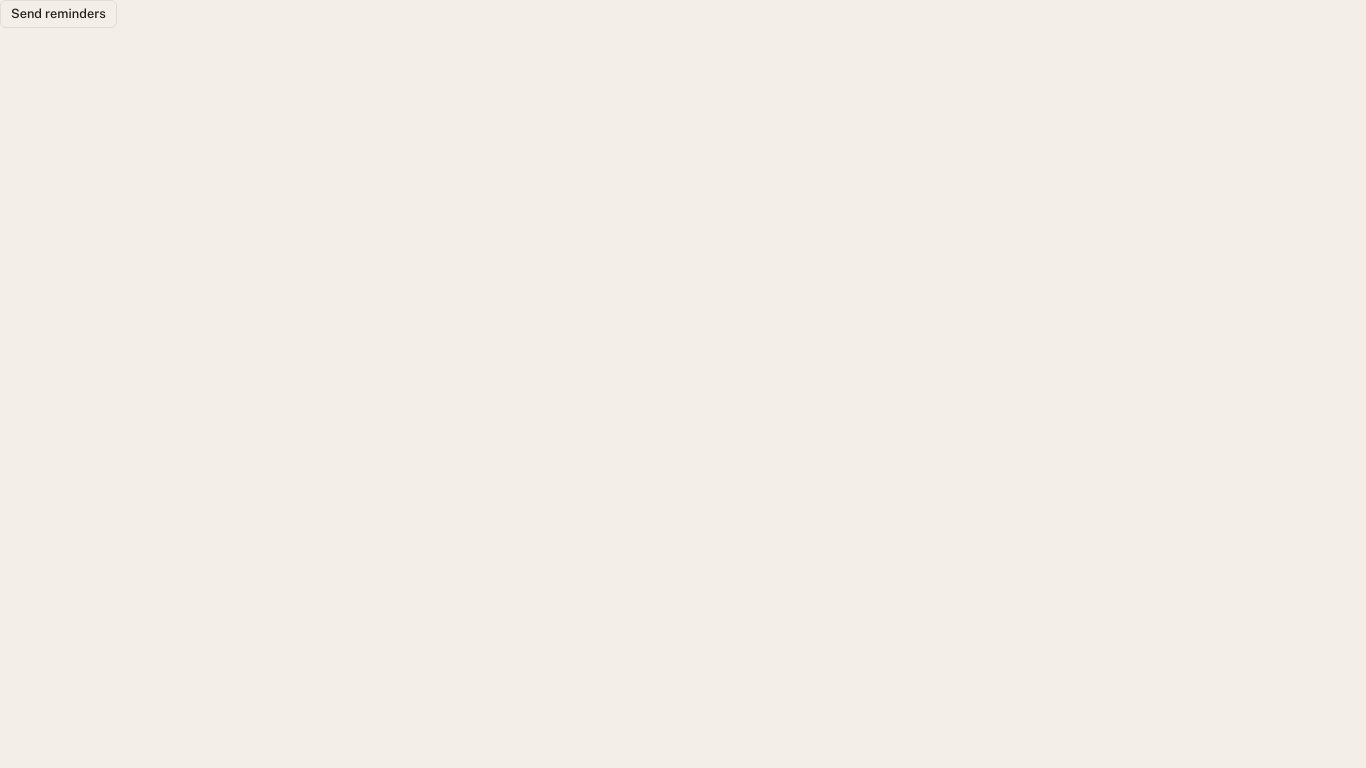
SendRemindersDialog › says 'up to N' for any send, since the send recomputes the plan and the time budget may stop it early
Click the button "Send reminders" at (58, 14), box x1=0 y1=0 x2=117 y2=28
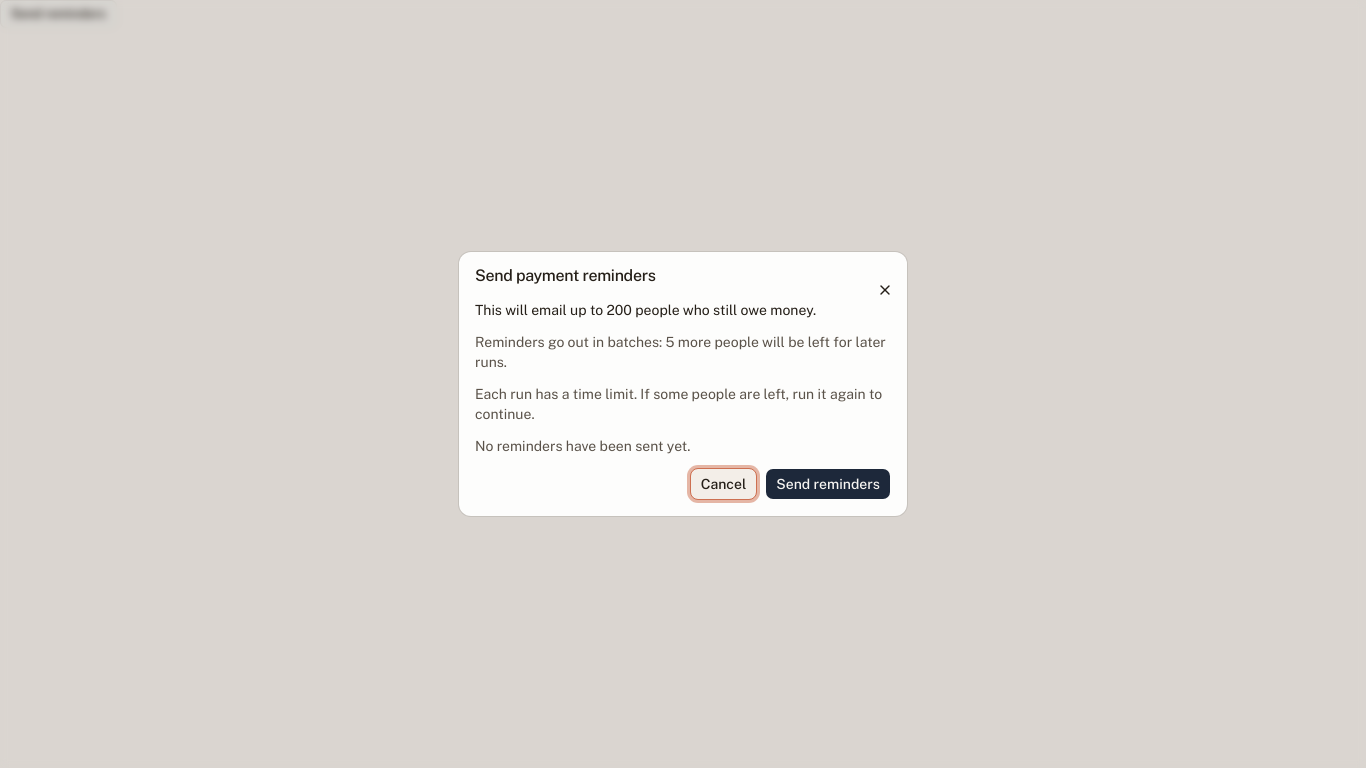
Check: the text "No reminders have been sent yet." is shown, box x1=475 y1=438 x2=690 y2=454
Check: the text "This will email up to 200 people who still owe money." is shown, box x1=475 y1=302 x2=816 y2=318
